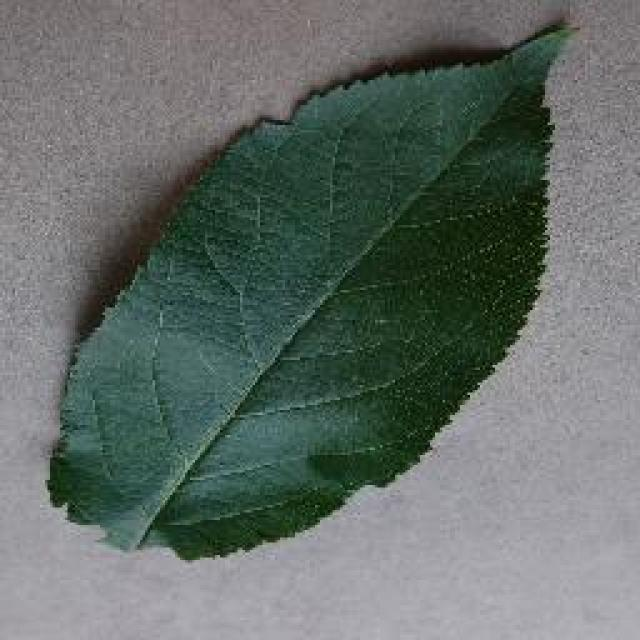apple healthy: (42, 15, 578, 560)
